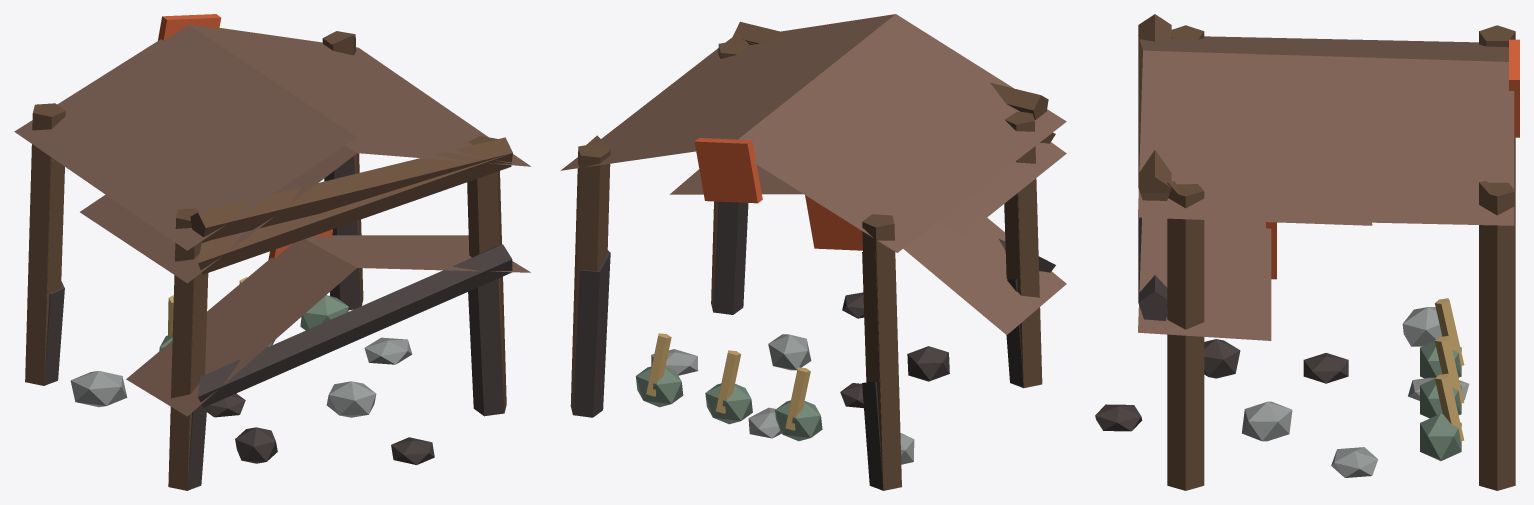
The model's file is shaman_shack_stages.glb.
3 renders of one model, left to right at view 1: azimuth 30°, elevation 25°; view 2: azimuth 150°, elevation 25°; view 3: azimuth 270°, elevation 25°, orthographic. The views are drawn at different scales.
Parts seen in each view (by area): view 1: Stage_Intact, Stage_Critical, Stage_Damaged, Stage_Rubble; view 2: Stage_Intact, Stage_Critical, Stage_Damaged, Stage_Rubble; view 3: Stage_Intact, Stage_Critical, Stage_Damaged, Stage_Rubble.
Part boxes in pixels (x1,y1,x2,y2): Stage_Intact: (14, 14, 530, 490); Stage_Critical: (44, 156, 530, 490); Stage_Damaged: (44, 35, 529, 490); Stage_Rubble: (70, 337, 434, 464); Stage_Intact: (560, 14, 1066, 490); Stage_Critical: (573, 165, 1066, 490); Stage_Damaged: (571, 33, 1066, 487); Stage_Rubble: (651, 292, 949, 464); Stage_Intact: (1138, 14, 1519, 490); Stage_Critical: (1138, 217, 1460, 461); Stage_Damaged: (1140, 68, 1515, 489); Stage_Rubble: (1095, 307, 1469, 477).
Size of what is drawn, in the model's own units: 2.37 by 2.2 by 2.33.
